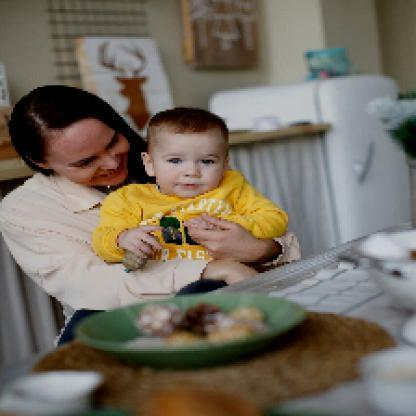child: (91, 108, 290, 261)
